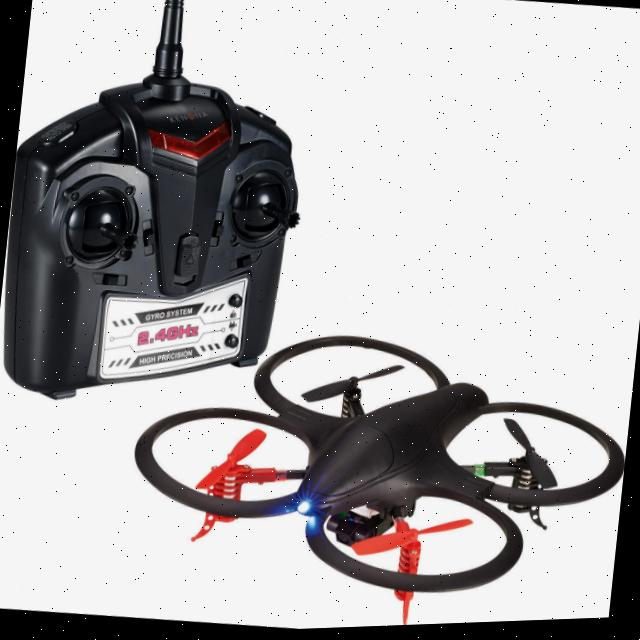drone: (97, 290, 637, 637)
